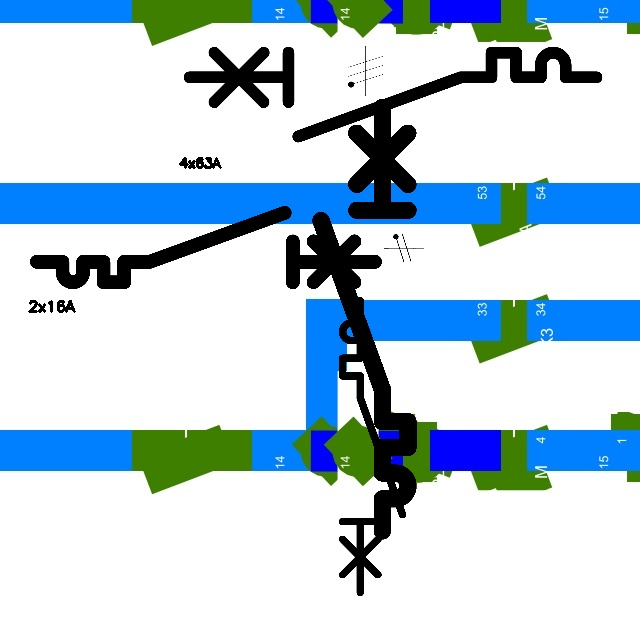interruptor_termomagnetico: (310, 96, 419, 541), (179, 42, 607, 146), (28, 204, 384, 291), (335, 293, 410, 600)
